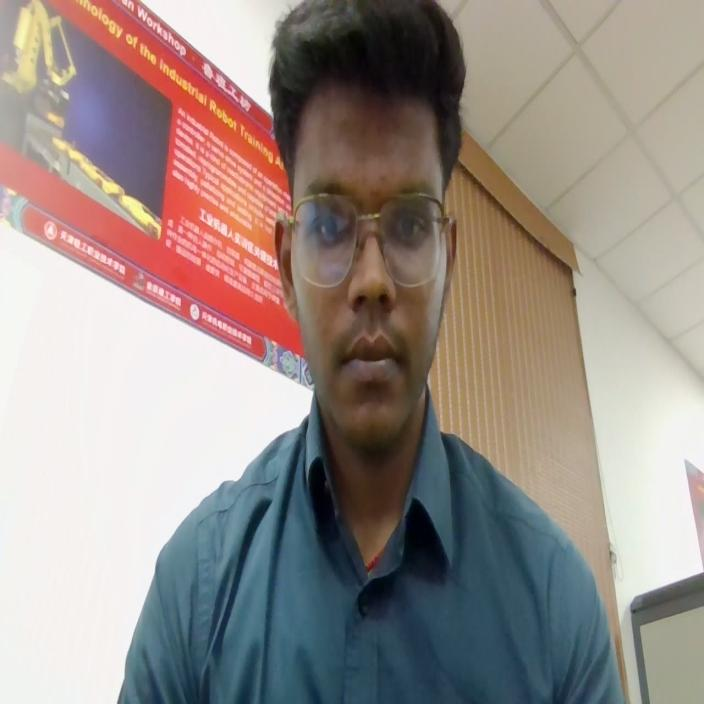know: (118, 0, 623, 703), (269, 0, 465, 187)
